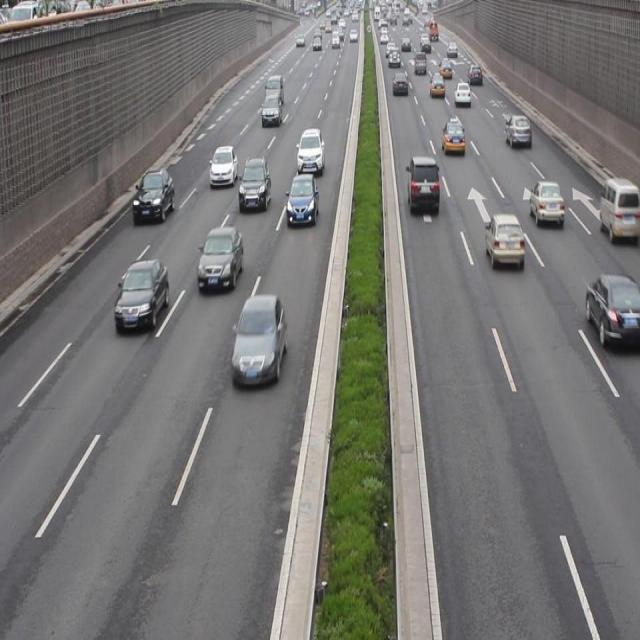car: (230, 294, 284, 385), (585, 274, 640, 345), (116, 263, 168, 325), (198, 228, 242, 290), (483, 212, 522, 274), (405, 154, 439, 218), (132, 172, 174, 217), (240, 156, 270, 213), (528, 179, 562, 229), (286, 175, 318, 228), (296, 126, 323, 176), (209, 146, 237, 187), (505, 113, 530, 150), (440, 119, 464, 155)
truck: (598, 178, 640, 242)
